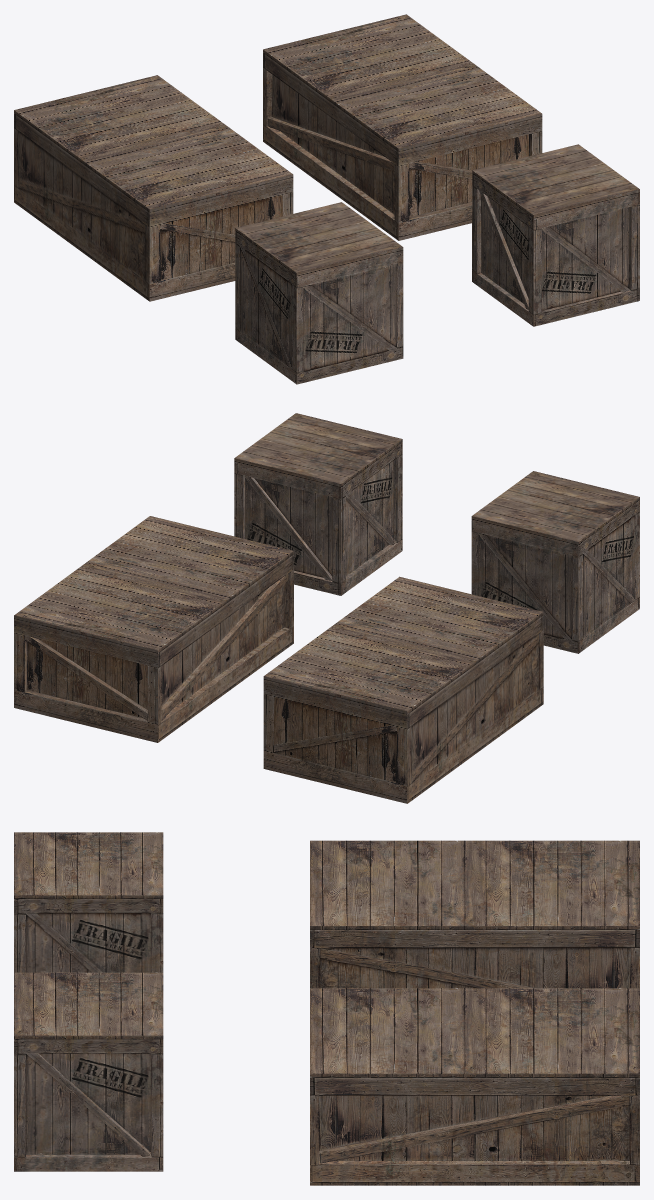
File: Wooden_box_v1.FBX
3 renders of one model, top to bottom at view 1: azimuth 30°, elevation 25°; view 2: azimuth 150°, elevation 25°; view 3: azimuth 270°, elevation 25°, orthographic. The views are drawn at different scales.
Parts seen in each view (by area): view 1: Wooden_box_v1_LD1, Wooden_box_v1_LD2, Wooden_box_v1_LD1square, Wooden_box_v1_LD2square; view 2: Wooden_box_v1_LD1, Wooden_box_v1_LD2, Wooden_box_v1_LD2square, Wooden_box_v1_LD1square; view 3: Wooden_box_v1_LD2, Wooden_box_v1_LD1, Wooden_box_v1_LD2square, Wooden_box_v1_LD1square.
Boxes of the visible parts, x1,y1,x2,y2 form: Wooden_box_v1_LD1: (14, 75, 293, 301); Wooden_box_v1_LD2: (263, 14, 542, 240); Wooden_box_v1_LD1square: (235, 202, 403, 384); Wooden_box_v1_LD2square: (472, 144, 639, 326); Wooden_box_v1_LD1: (263, 576, 543, 803); Wooden_box_v1_LD2: (14, 516, 293, 742); Wooden_box_v1_LD2square: (234, 413, 402, 595); Wooden_box_v1_LD1square: (471, 471, 639, 653); Wooden_box_v1_LD2: (310, 988, 639, 1185); Wooden_box_v1_LD1: (310, 840, 639, 988); Wooden_box_v1_LD2square: (14, 972, 163, 1171); Wooden_box_v1_LD1square: (14, 832, 163, 972).
Size of the model in its own units: 2.99 by 0.8124 by 3.39.
